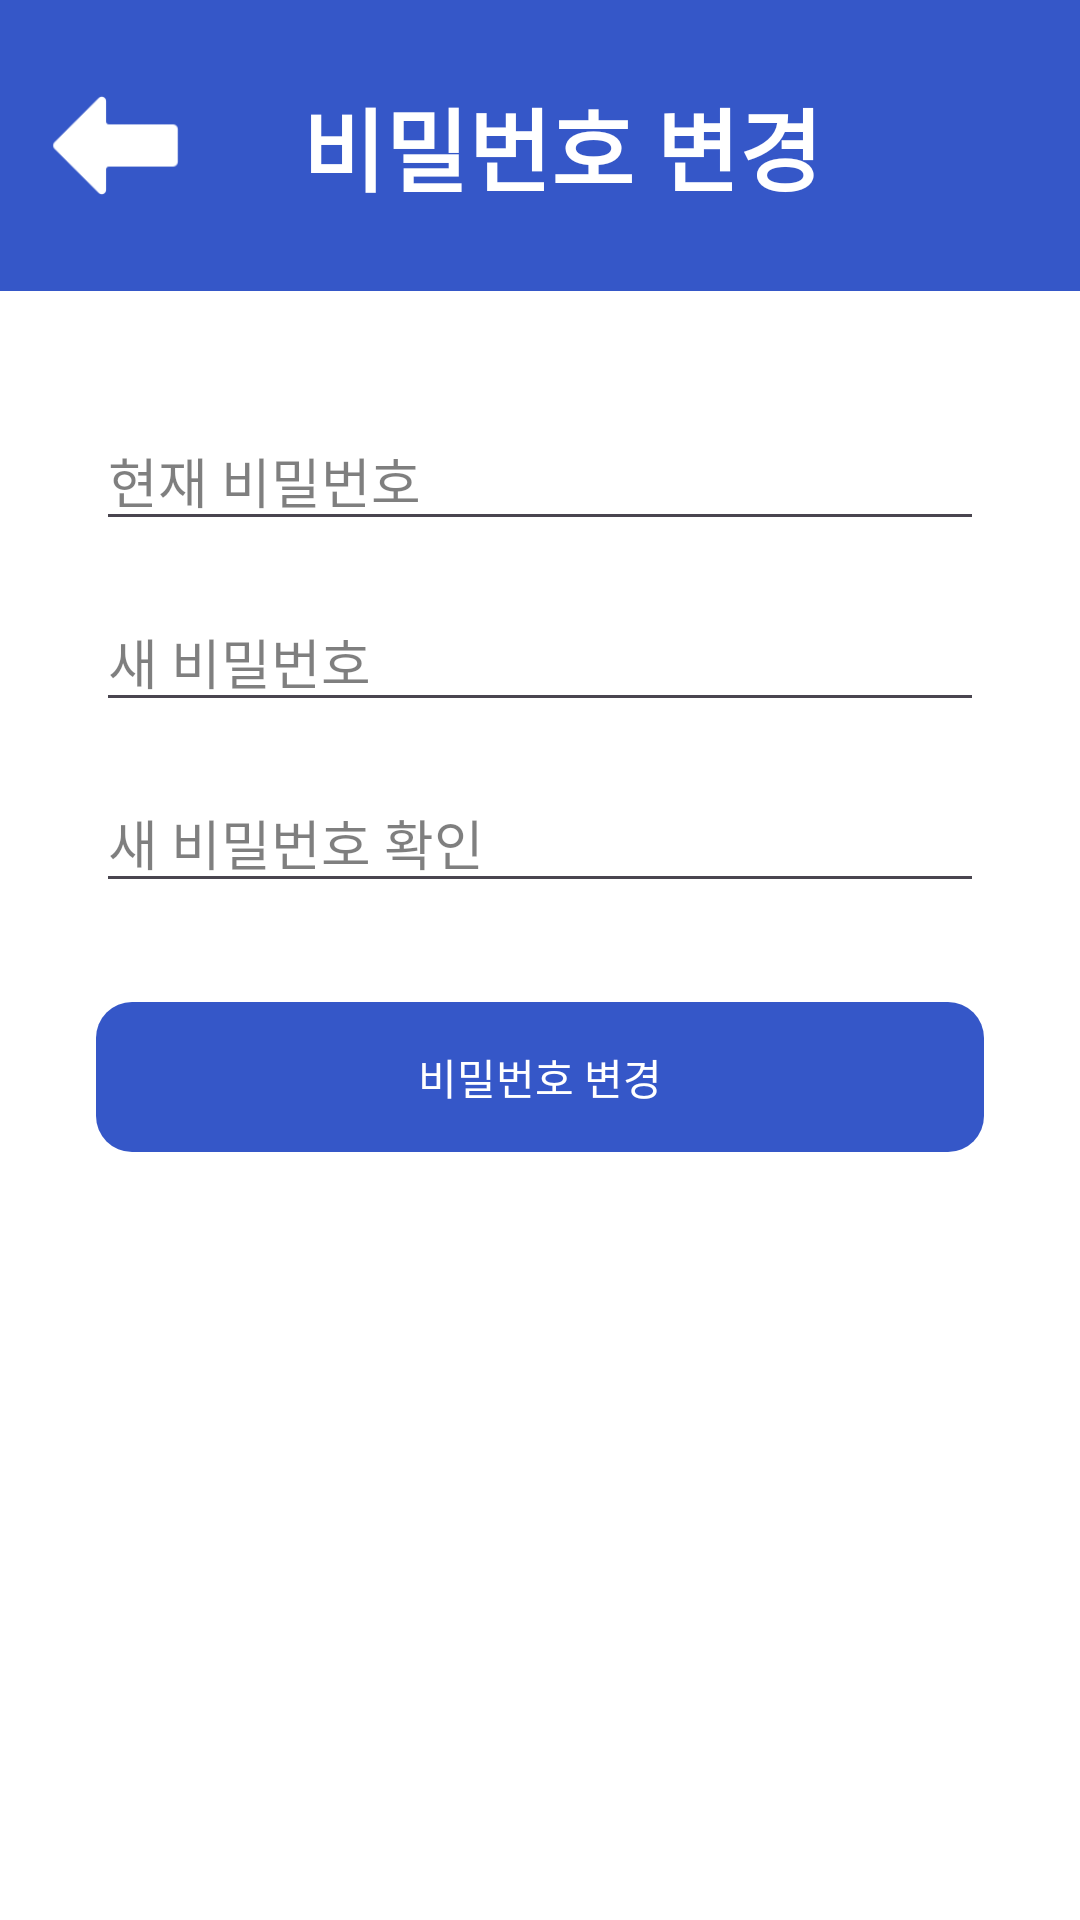

Icon bounding boxes for this 1080 × 1920 phone screenshot, format (x1, y1, x2, y2):
뒤로가기: (53, 96, 178, 195)
